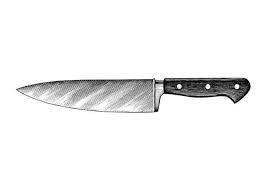Knife: (15, 76, 250, 113)
